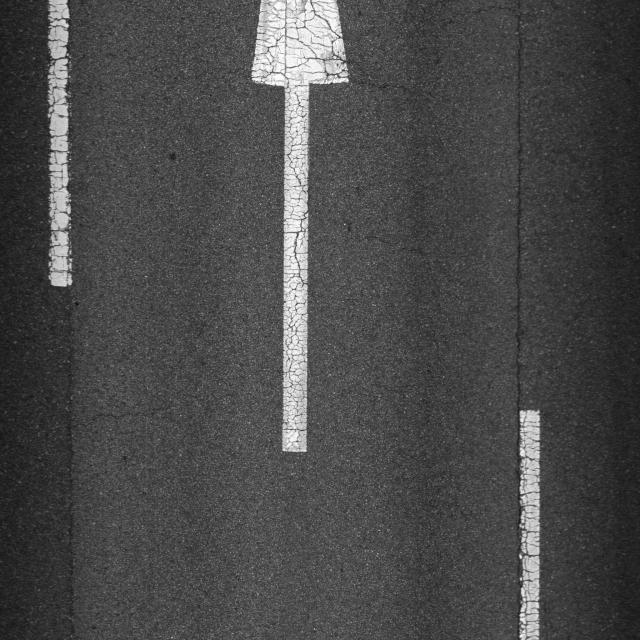forward: (47, 0, 539, 453)
